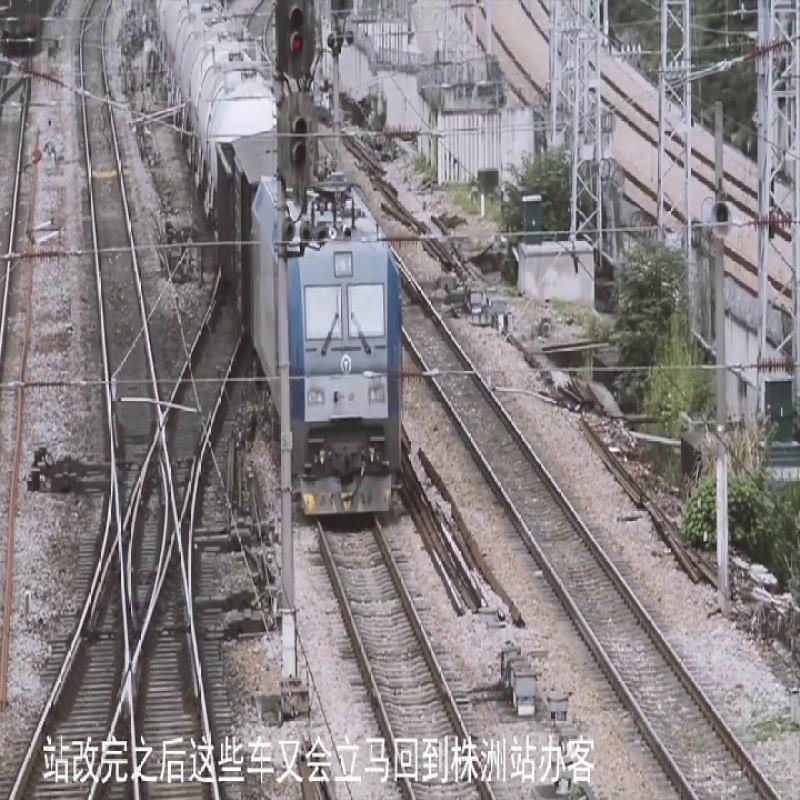train: (208, 137, 402, 525)
